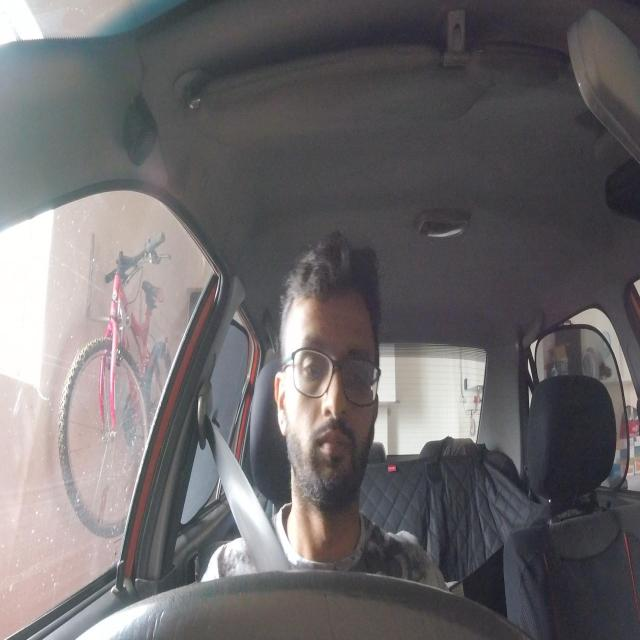open: (295, 334, 328, 396)
